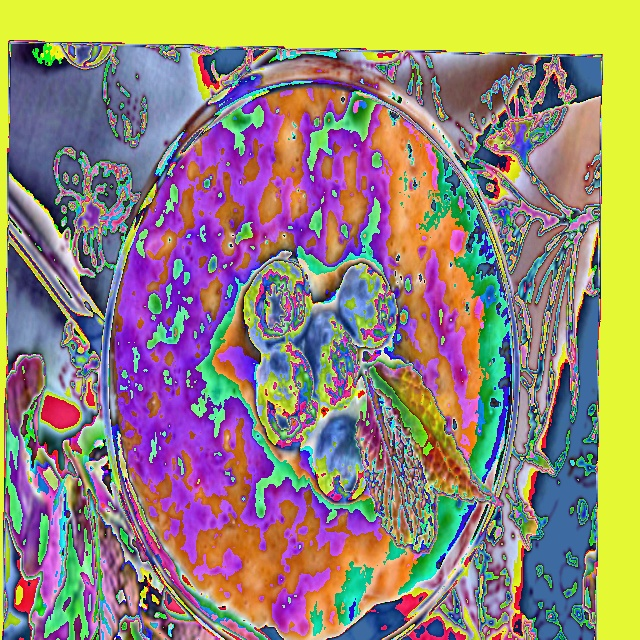background: (5, 87, 512, 639)
